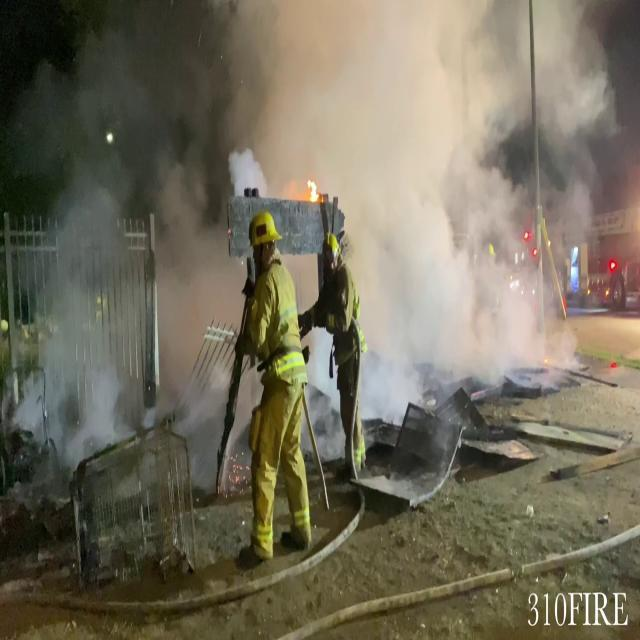Smoke: (22, 1, 636, 401)
